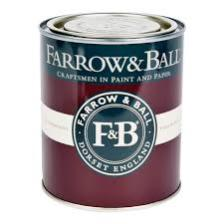metal: (29, 9, 202, 212)
